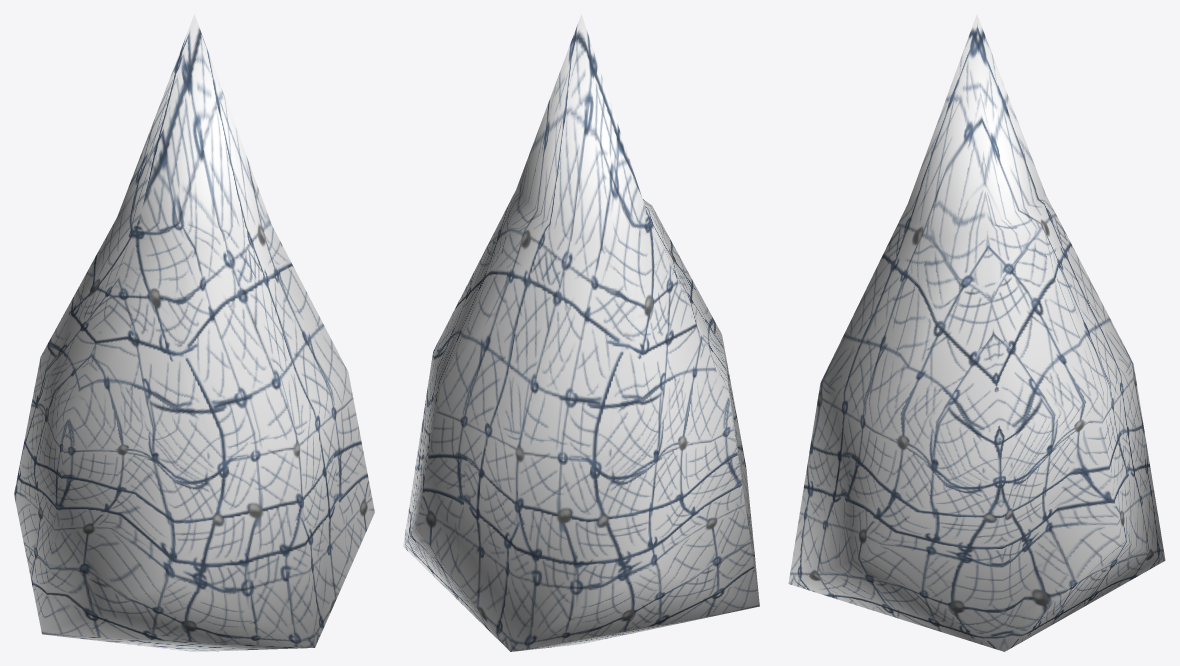
Rendered from M_M_FishNetBag.fbx.
3 renders of one model, left to right at view 1: azimuth 30°, elevation 25°; view 2: azimuth 150°, elevation 25°; view 3: azimuth 270°, elevation 25°, orthographic.
Visible parts, largest first — view 1: M_FishNetBag; view 2: M_FishNetBag; view 3: M_FishNetBag.
Part boxes in pixels (box(x1,y1,x2,y2)): M_FishNetBag: box(14, 14, 374, 651); M_FishNetBag: box(403, 14, 759, 651); M_FishNetBag: box(788, 14, 1165, 651).
Bounding box in the file's own units: 1.83 × 3.34 × 1.83.
